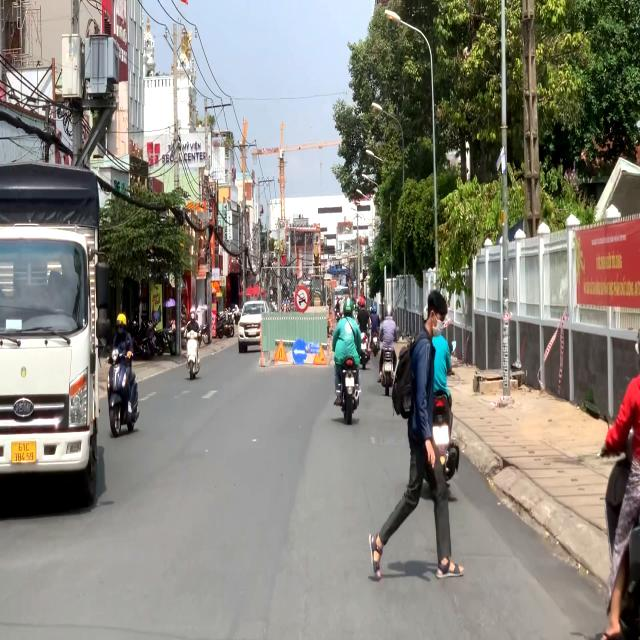Cac xe chi duoc re trai: (292, 338, 308, 364)
Cam xe oto: (294, 285, 310, 313)
